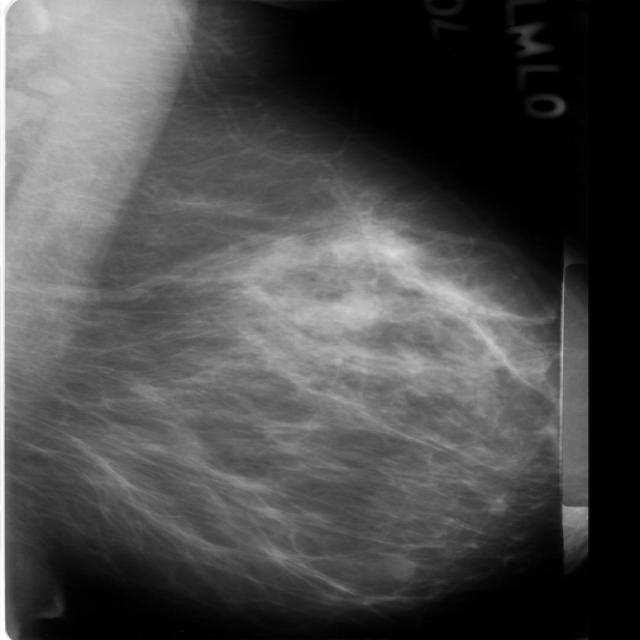tumour: (382, 550, 415, 582)
